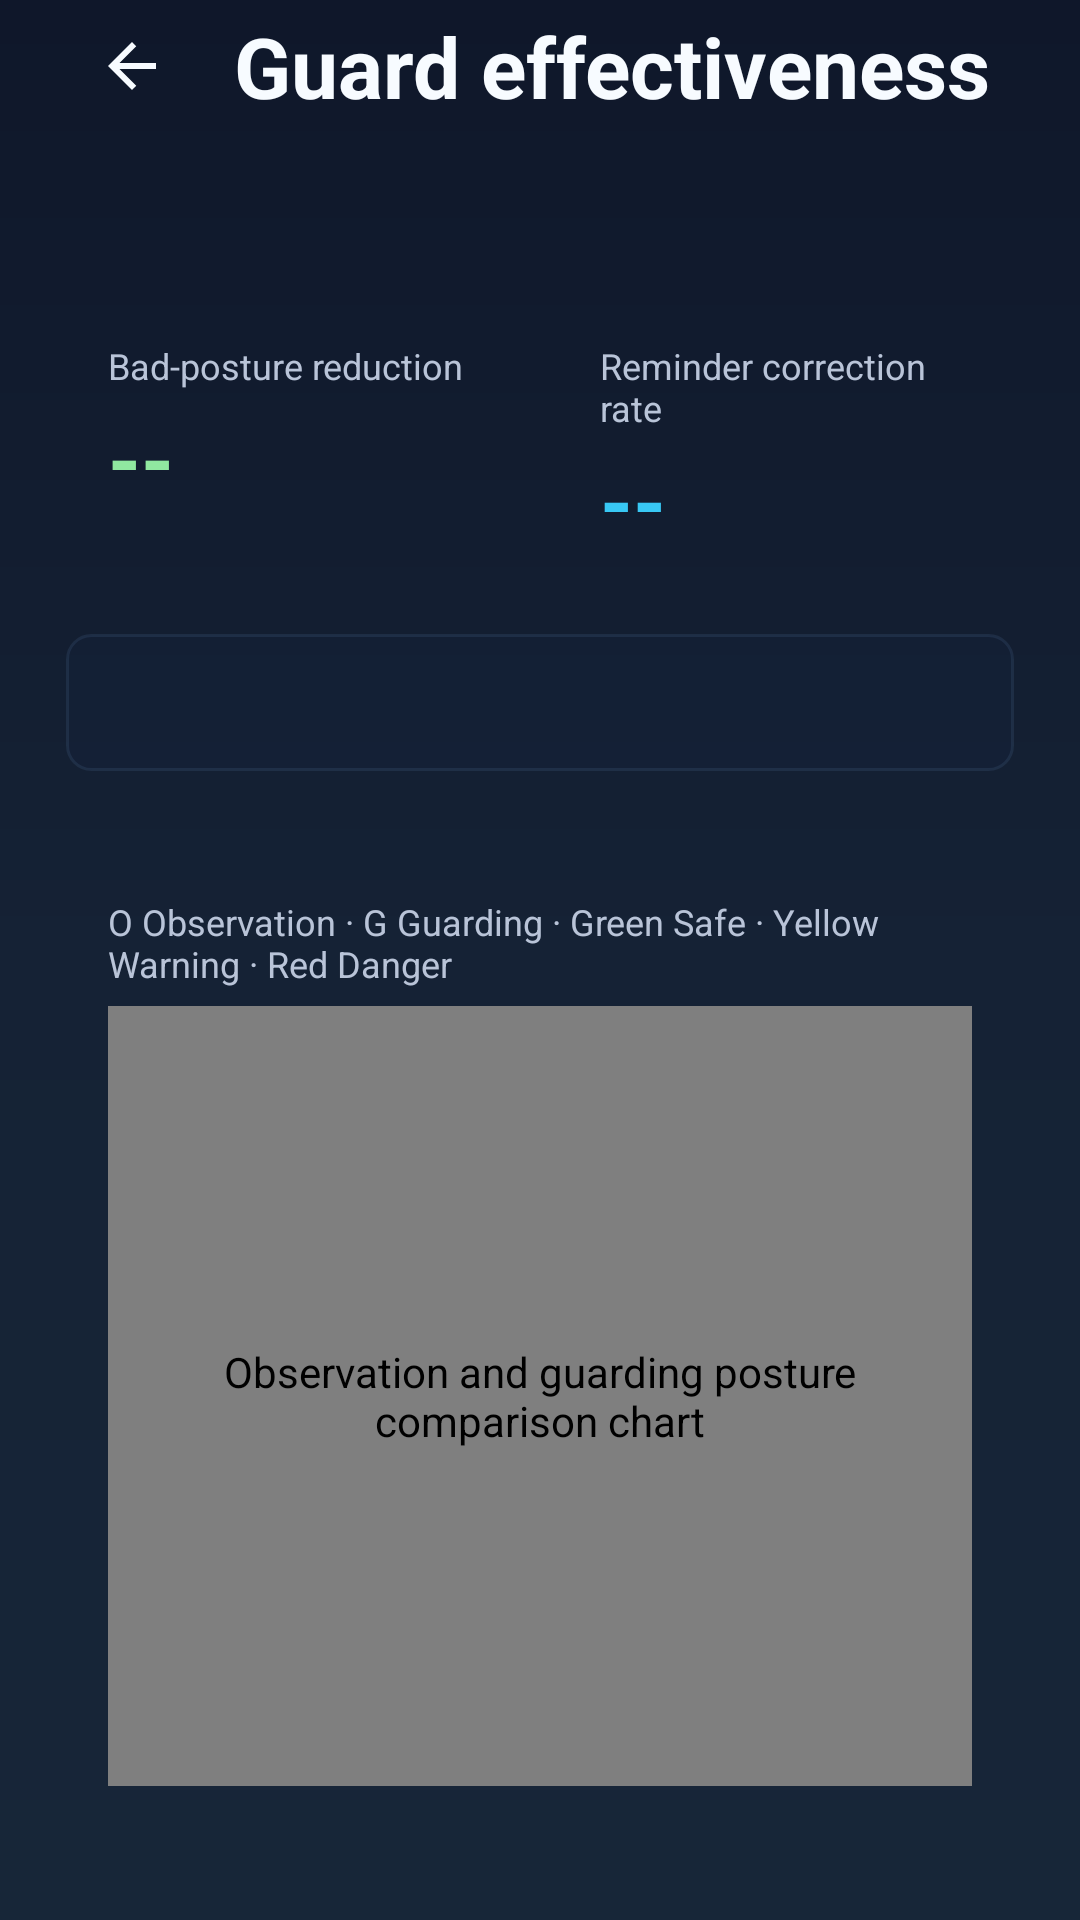

Icon bounding boxes for this 1080*1920 phone screenshot, format (x1, y1, x2, y2):
Back to stats: (108, 42, 156, 90)
